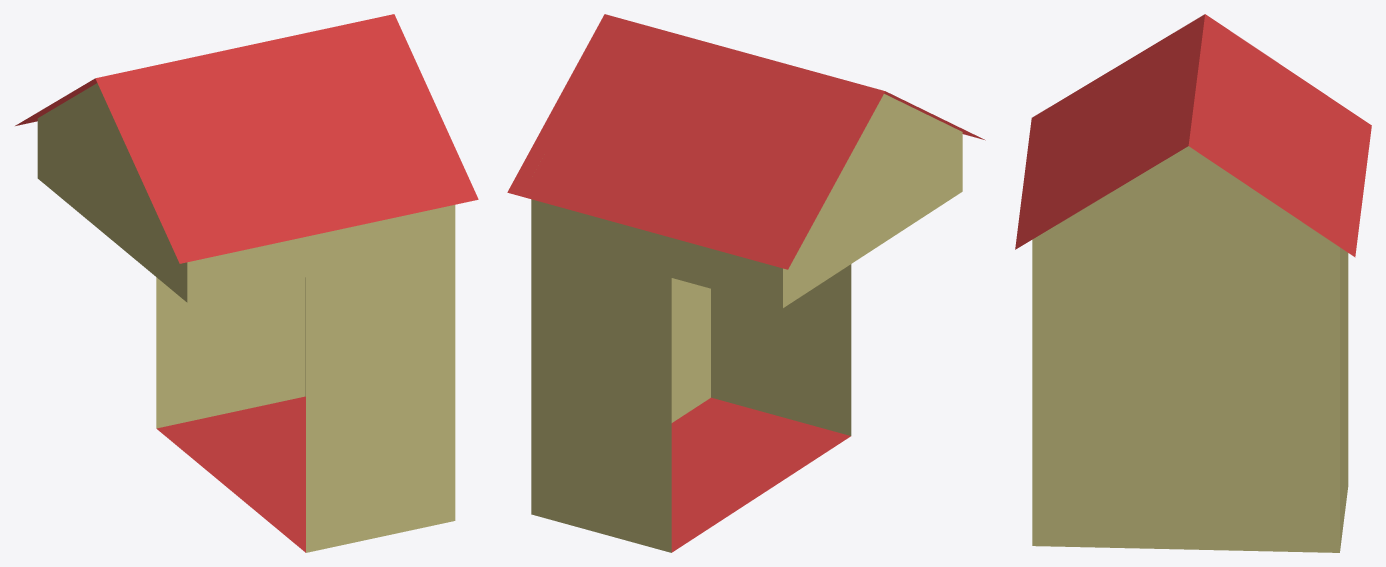
3 renders of one model, left to right at view 1: azimuth 30°, elevation 25°; view 2: azimuth 150°, elevation 25°; view 3: azimuth 270°, elevation 25°, orthographic. The views are drawn at different scales.
Size of the model in its own units: 10.15 by 10.95 by 13.9.
